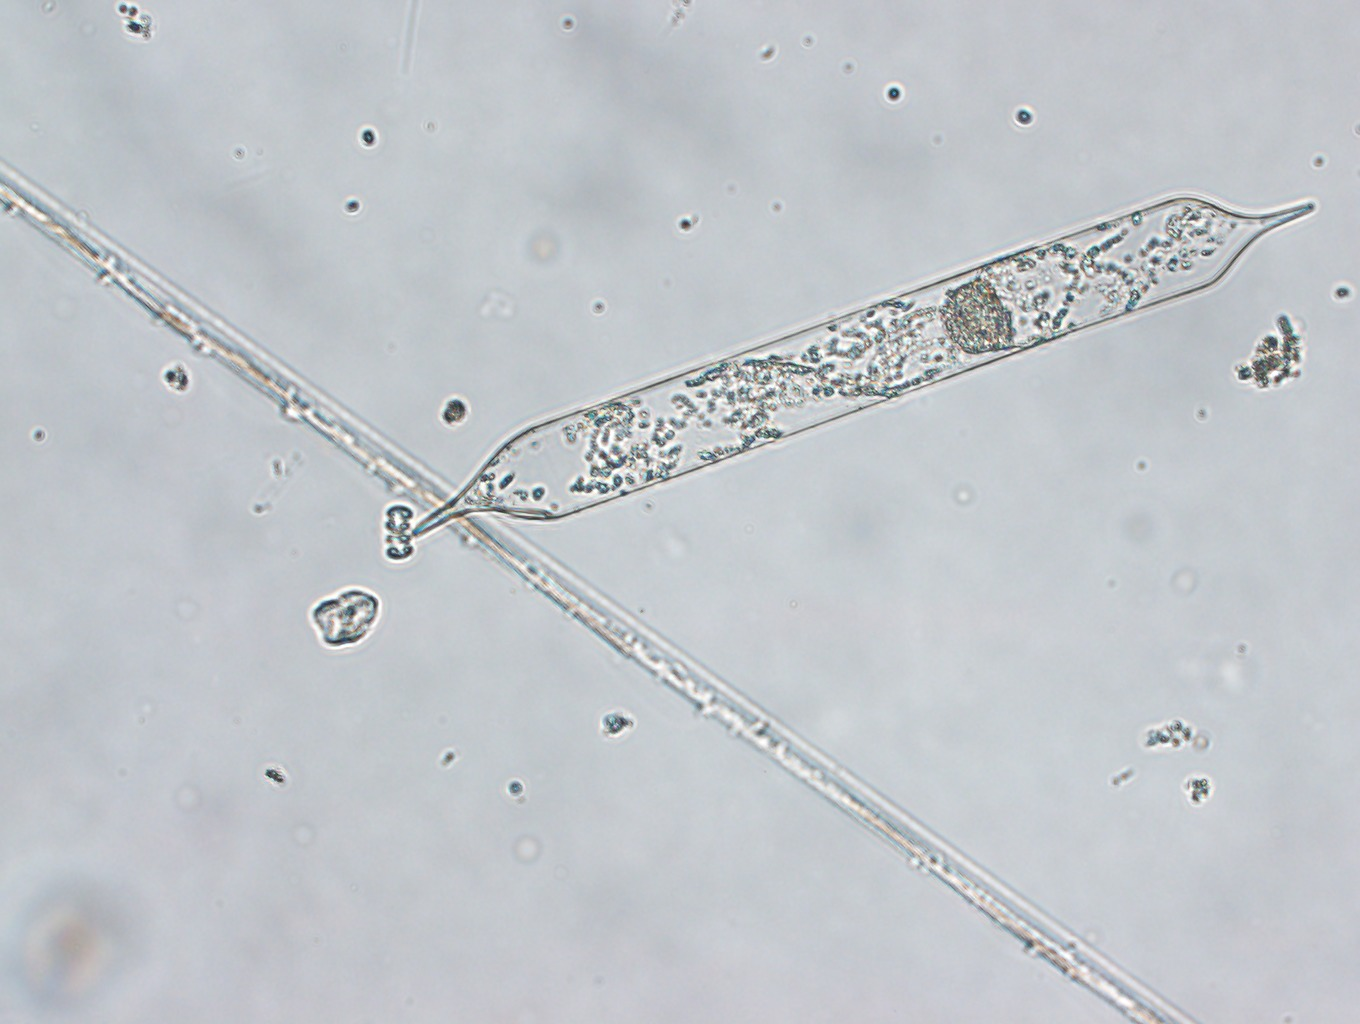rhizosolenia: (411, 195, 1316, 542)
skeletonema: (381, 502, 413, 561)
